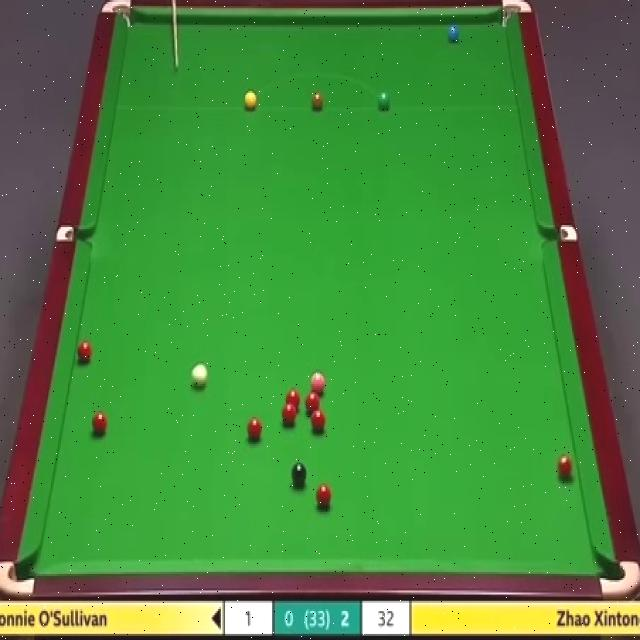black-ball: (291, 460, 309, 490)
blue-ball: (446, 21, 462, 46)
brown-ball: (310, 92, 324, 113)
green-ball: (377, 91, 391, 113)
pink-ball: (307, 370, 326, 396)
red-ball: (557, 450, 574, 483), (91, 410, 109, 439), (316, 485, 334, 510), (281, 403, 297, 428), (247, 417, 262, 442), (284, 389, 301, 411), (76, 340, 91, 364), (311, 409, 326, 432), (304, 392, 320, 412)
white-ball: (190, 361, 208, 391)
yellow-ball: (244, 90, 258, 112)
